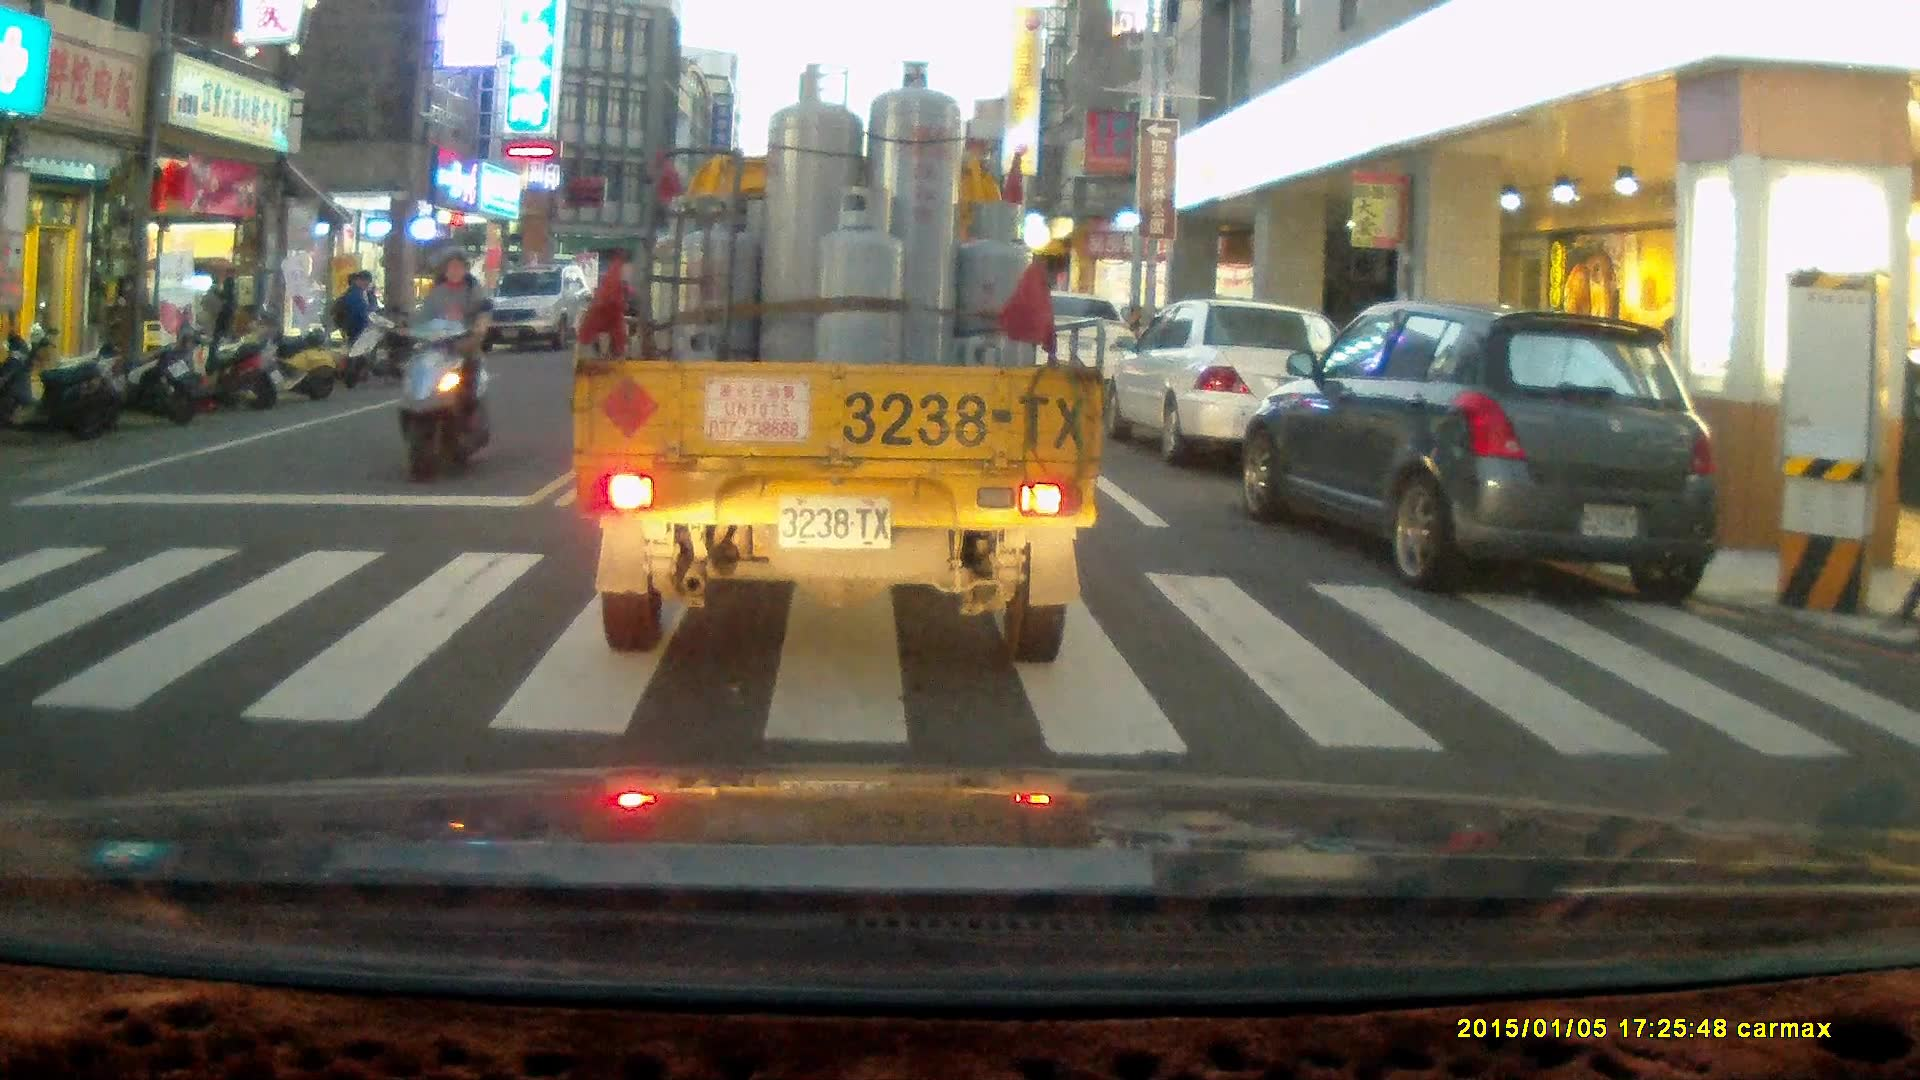pedestrian: (336, 268, 373, 379), (198, 271, 230, 375)
rider: (382, 245, 495, 485)
vehicle: (570, 62, 1109, 664), (1237, 295, 1724, 601), (1108, 298, 1363, 472), (991, 295, 1153, 428), (472, 268, 587, 359)
